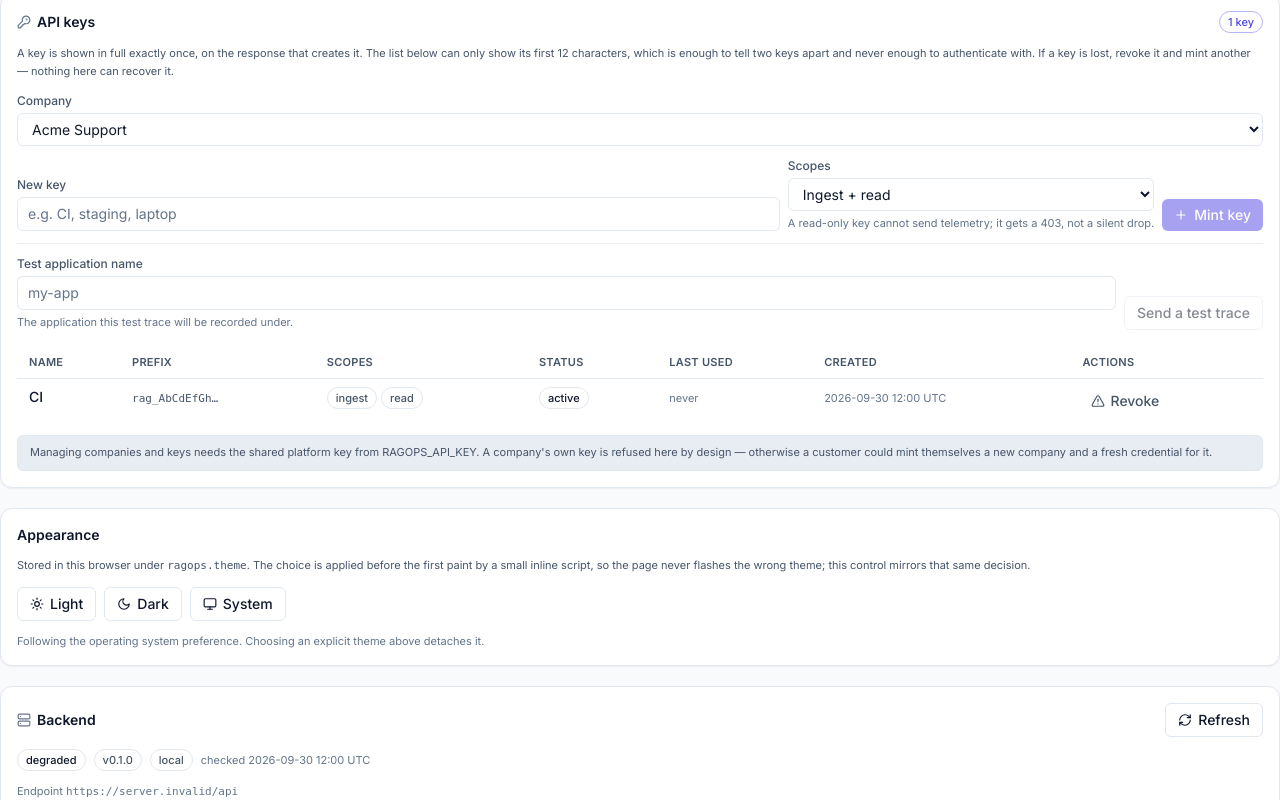
Test case: SettingsPage: API keys › keeps the row after a revoke and flips its badge
(page scrolled)
Expected: the table named "API keys" is shown, left=17, top=346, right=1263, bottom=423
Expected: the text "active" is shown, left=539, top=387, right=589, bottom=409
Step 1. Click the button "Revoke" → (1125, 401), box left=1082, top=387, right=1167, bottom=415
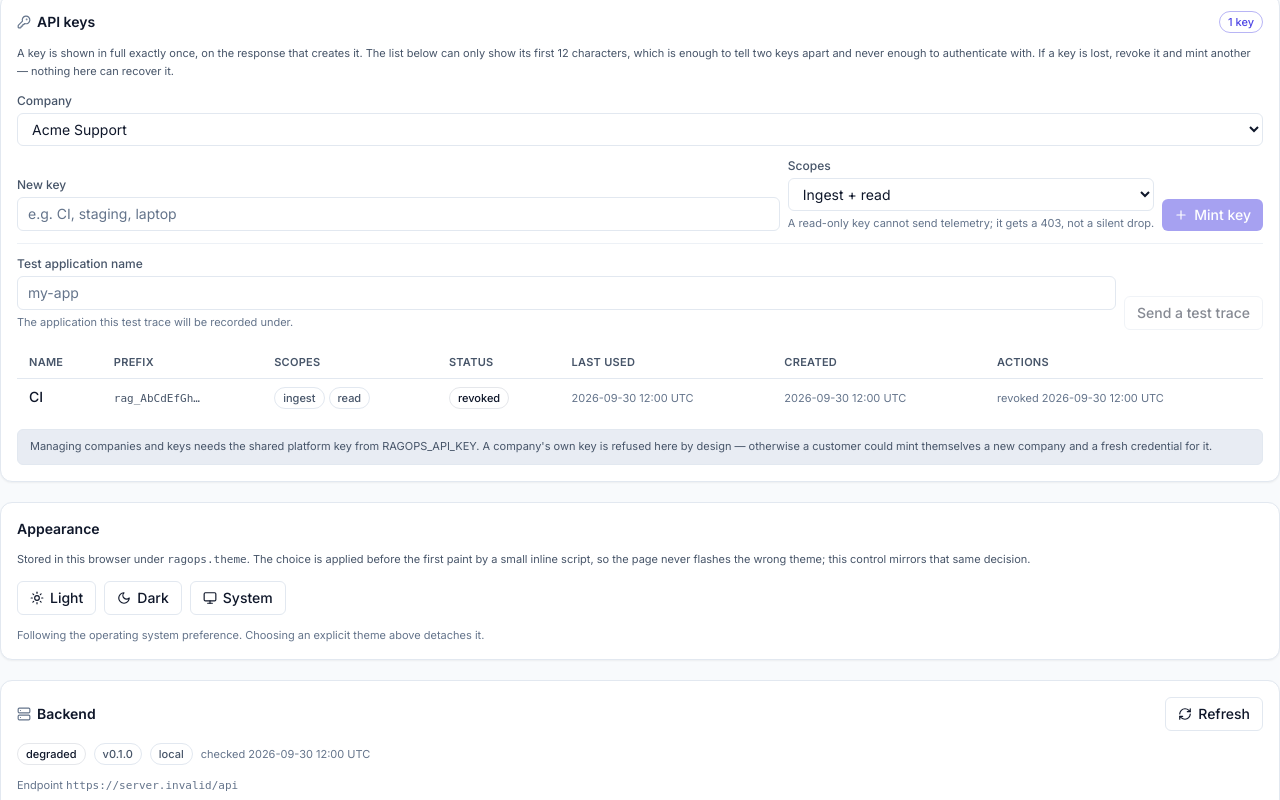
Expected: the text "CI" is shown, left=29, top=388, right=43, bottom=405
Expected: the text "revoked" is shown, left=449, top=387, right=509, bottom=409
